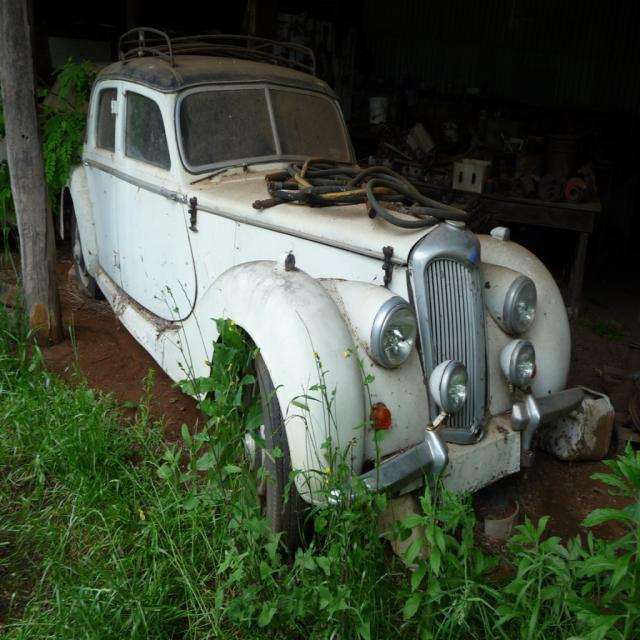car: (87, 53, 576, 562)
